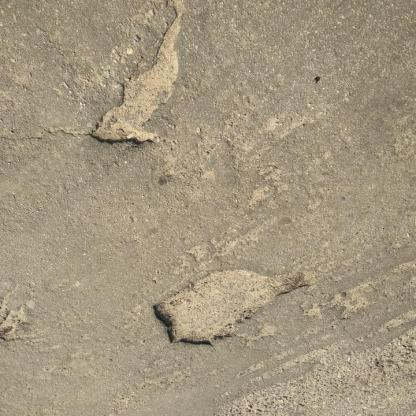pothole: (89, 0, 189, 148), (148, 264, 314, 350), (0, 297, 33, 343)
